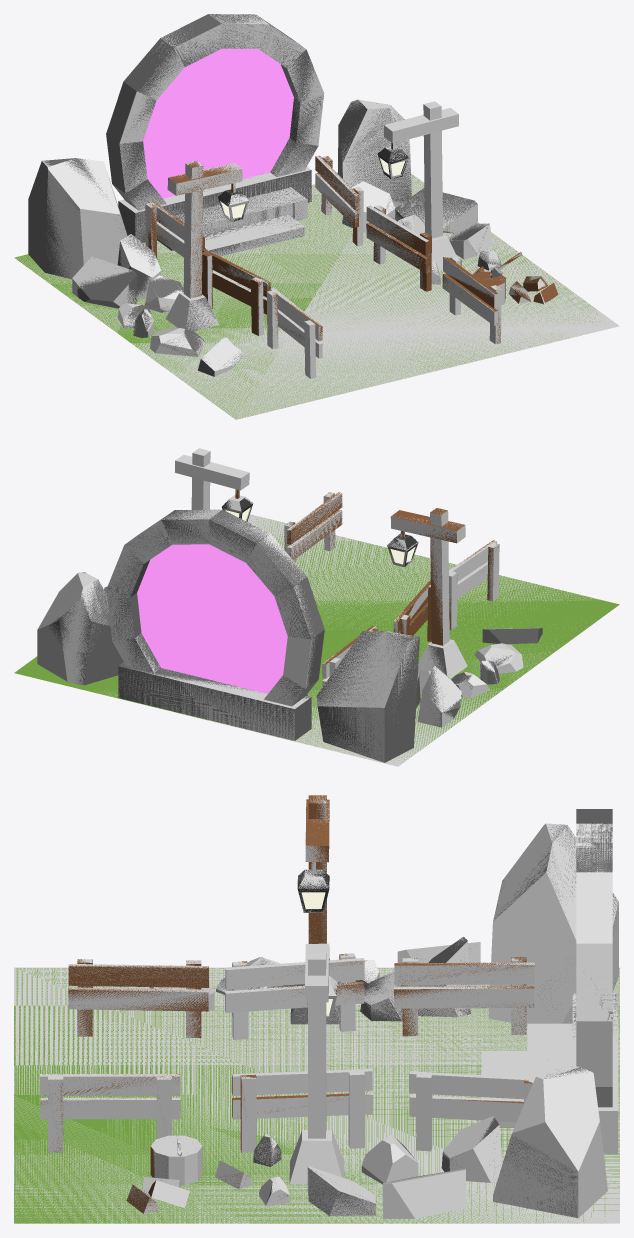
The model's file is portal2.glb.
3 views of the same model, one above another, from view 1: azimuth 30°, elevation 25°; view 2: azimuth 150°, elevation 25°; view 3: azimuth 270°, elevation 25° (orthographic). The views are drawn at different scales.
Parts seen in each view (by area): view 1: bakedportalscene, Plane, Circle, Cube.005, Cube.006, fence.007, Cube, fence.001, Cube.024, Cube.022, Cube.010, Cube.020 (+15 smaller); view 2: bakedportalscene, Plane, Circle, Cube.006, Cube, Cube.005, fence, pole.001, Cube.023, Cube.025, Cube.024, fence.007 (+7 smaller); view 3: bakedportalscene, Plane, fence.006, pole.001, fence.008, Cube.026, Cube.005, Cube.015, Cube.019, Cube.006, lightframe1.001, Cube.008 (+1 smaller).
Part boxes in pixels (<box>): bakedportalscene: <box>16,14,619,419</box>; Plane: <box>14,174,605,419</box>; Circle: <box>143,48,293,198</box>; Cube.005: <box>337,100,411,202</box>; Cube.006: <box>28,158,122,278</box>; fence.007: <box>202,249,270,335</box>; Cube: <box>118,170,311,242</box>; fence.001: <box>366,205,431,291</box>; Cube.024: <box>123,38,182,99</box>; Cube.022: <box>106,134,146,192</box>; Cube.010: <box>76,258,137,308</box>; Cube.020: <box>157,188,305,250</box>; bakedportalscene: <box>37,448,601,766</box>; Plane: <box>14,515,619,763</box>; Circle: <box>137,544,287,693</box>; Cube.006: <box>316,631,419,762</box>; Cube: <box>118,662,311,740</box>; Cube.005: <box>49,572,123,685</box>; fence: <box>284,492,342,561</box>; pole.001: <box>391,508,464,645</box>; Cube.023: <box>277,577,324,639</box>; Cube.025: <box>209,509,269,561</box>; Cube.024: <box>247,537,306,595</box>; fence.007: <box>393,581,431,641</box>; bakedportalscene: <box>14,795,619,1223</box>; Plane: <box>14,967,619,1223</box>; fence.006: <box>68,959,208,1037</box>; pole.001: <box>305,795,329,943</box>; fence.008: <box>394,957,534,1036</box>; Cube.026: <box>576,823,612,872</box>; Cube.005: <box>496,1067,588,1217</box>; Cube.015: <box>308,1168,375,1215</box>; Cube.019: <box>360,972,402,1021</box>; Cube.006: <box>495,824,618,995</box>; lightframe1.001: <box>297,869,329,912</box>; Cube.008: <box>418,937,470,1016</box>.
Size of the model in its own units: 4 by 2 by 4.
